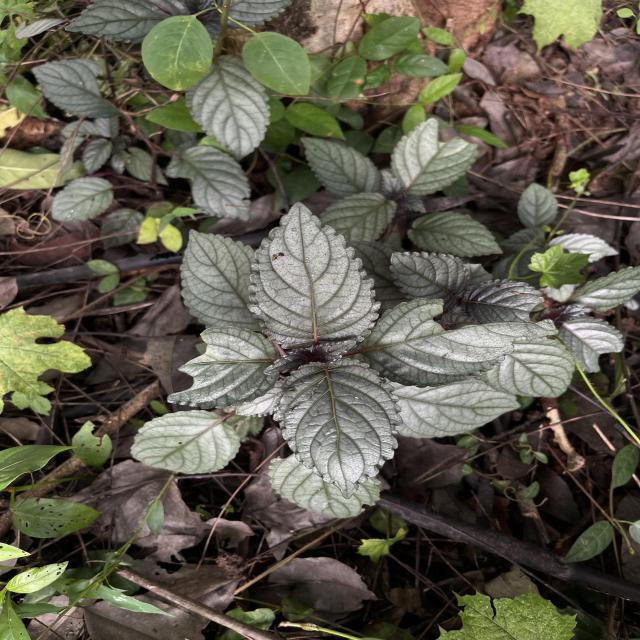Hemigraphis colorata: (244, 198, 386, 356), (270, 351, 406, 504), (366, 294, 524, 391), (176, 224, 260, 330), (128, 406, 245, 476), (264, 454, 386, 520), (387, 246, 473, 305)
